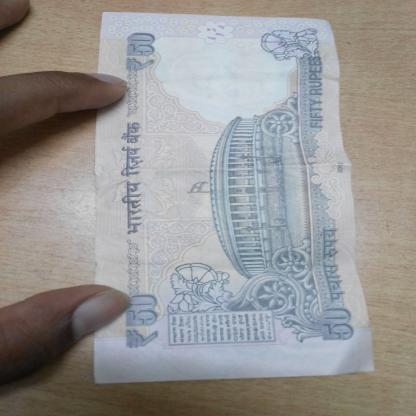Old50Back: (93, 9, 375, 386)
